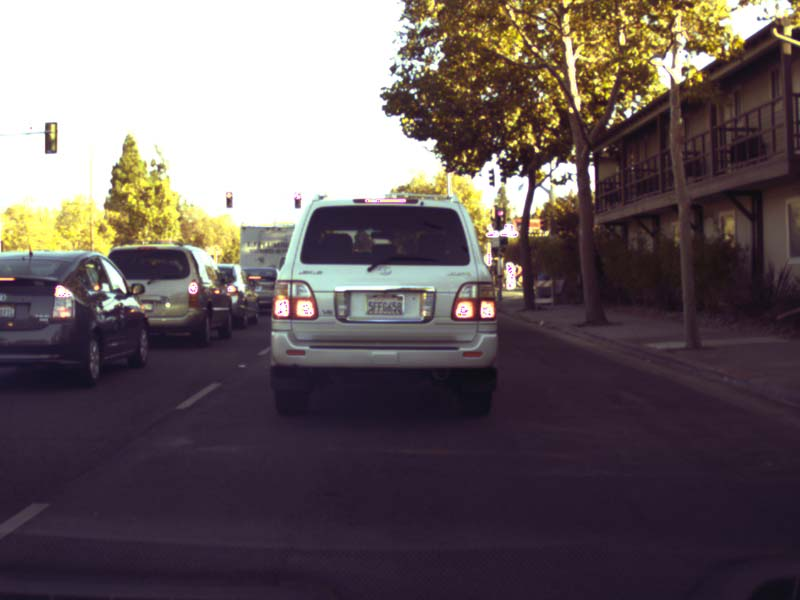Red: (494, 206, 503, 228), (225, 192, 232, 207), (294, 193, 301, 208)
